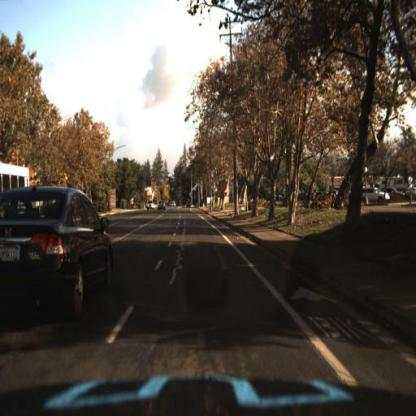car: (3, 182, 118, 320), (362, 187, 392, 203), (145, 200, 156, 212), (158, 199, 167, 213), (187, 202, 192, 209), (173, 202, 177, 208)
